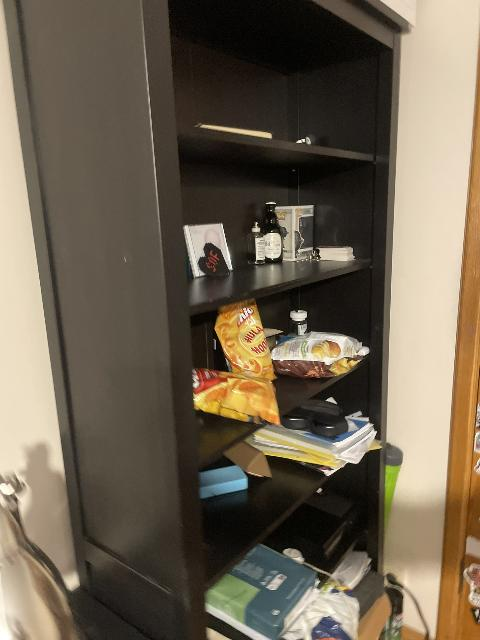Chio Cascaval 125g: (194, 367, 280, 427)
Chio Hula Hoops Cheese 70g: (214, 299, 275, 378)
Lays Beef Grilled Ribs 125g: (269, 331, 367, 377)
